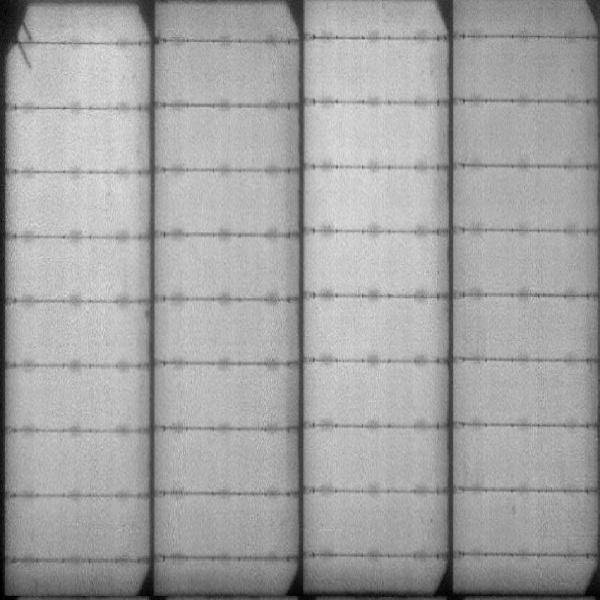broken: (6, 2, 33, 69)
